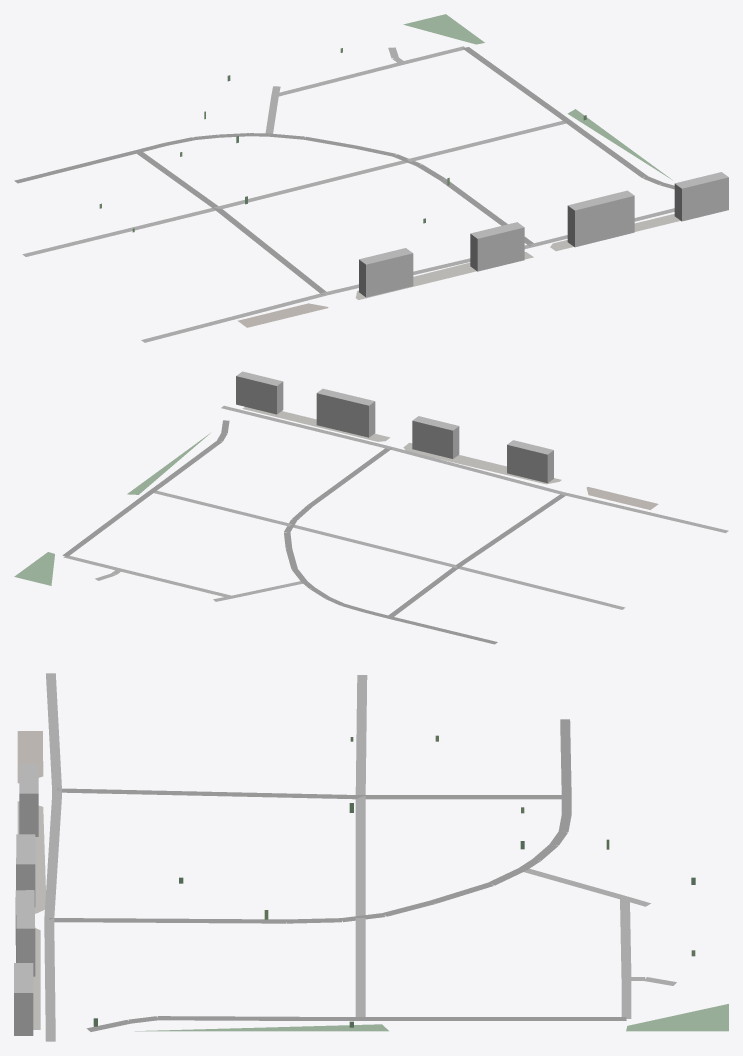
3 views of the same model, one above another, from view 1: azimuth 30°, elevation 25°; view 2: azimuth 150°, elevation 25°; view 3: azimuth 270°, elevation 25° (orthographic). The views are drawn at different scales.
Size of the model in its own units: 618 by 40.5 by 502.
